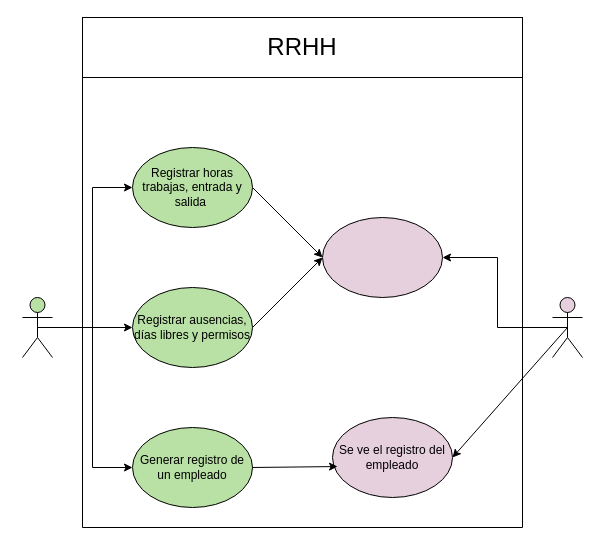
This 606x545 diagram has some shape labels left out. The shapes that lost their labels are listed below. From the top down, each one's centre as x and y in pixels, then its label:
At point 382,257: "Guardar".
At point 37,327: "Usuario".
At point 567,327: "Sistema".
